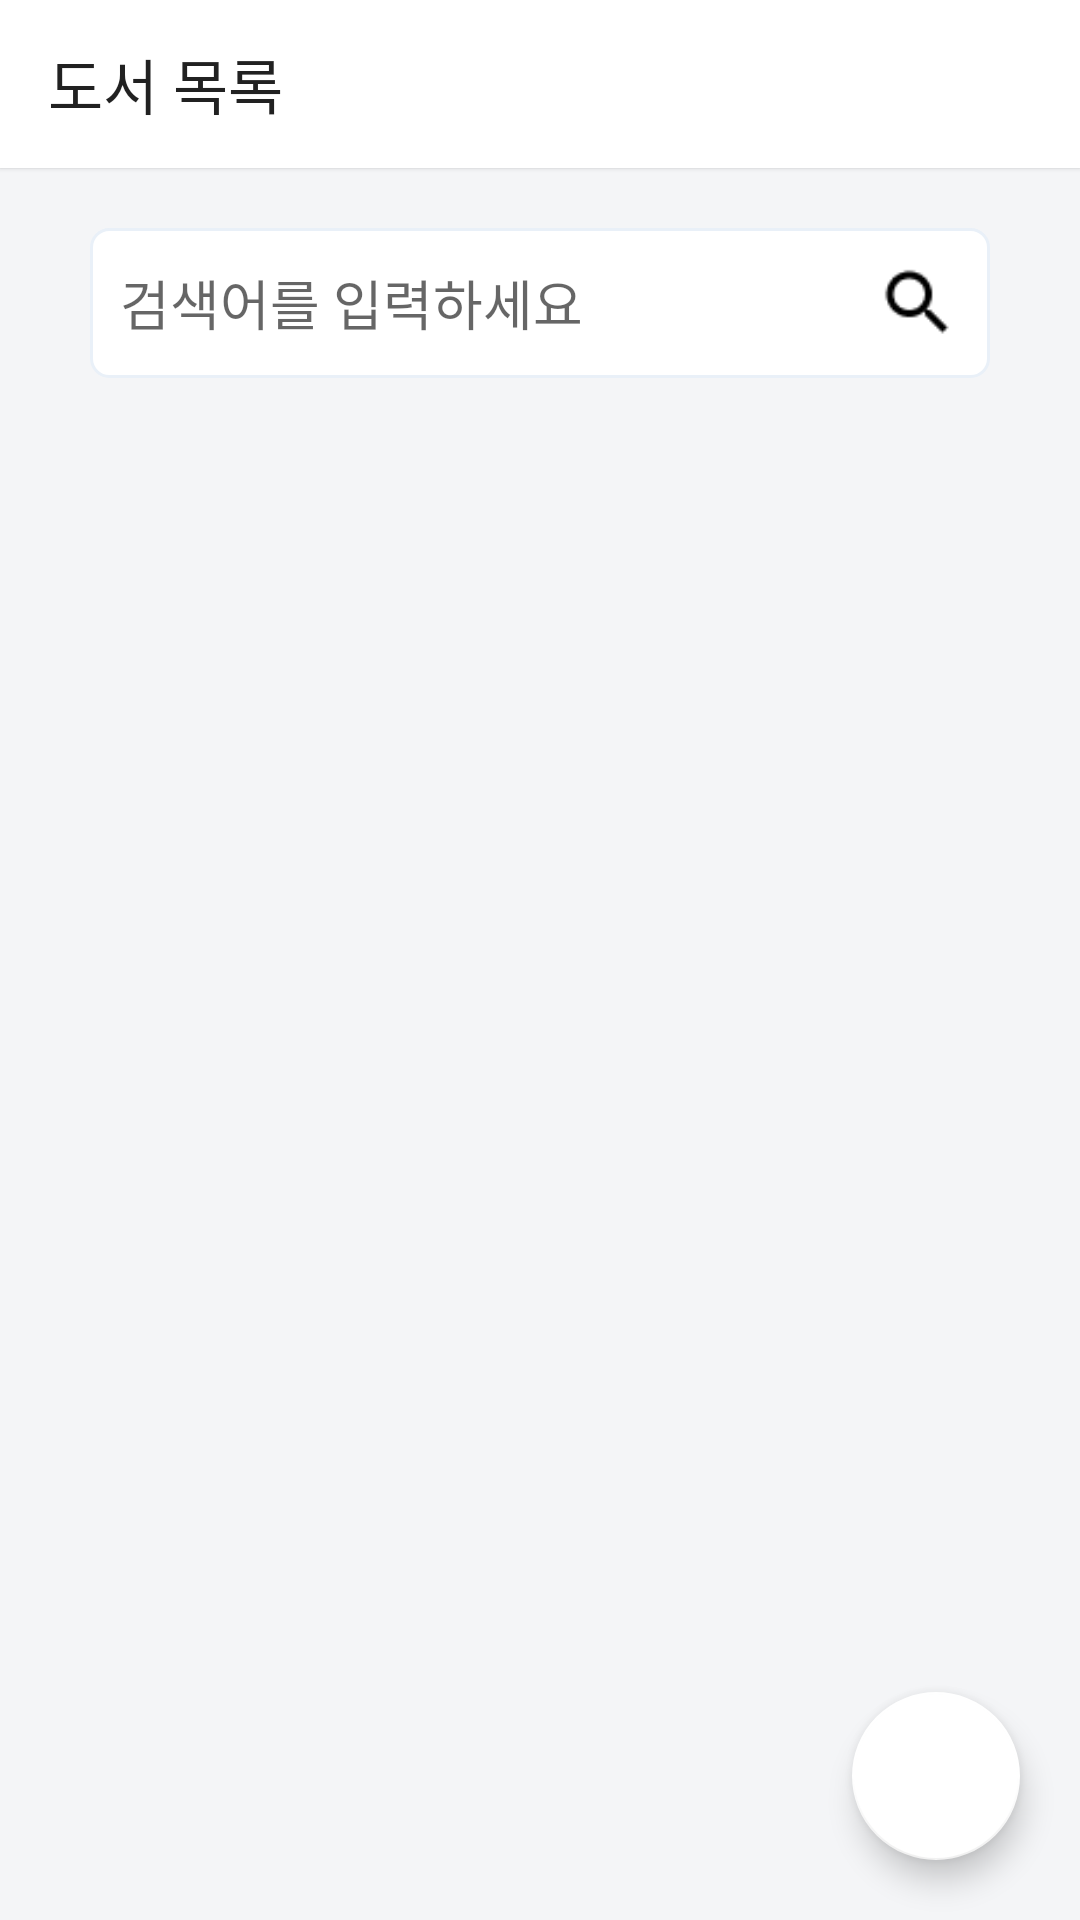

Icon bounding boxes for this 1080w x 1920h phone screenshot, format (x1, y1, x2, y2):
search: (885, 270, 949, 334)
